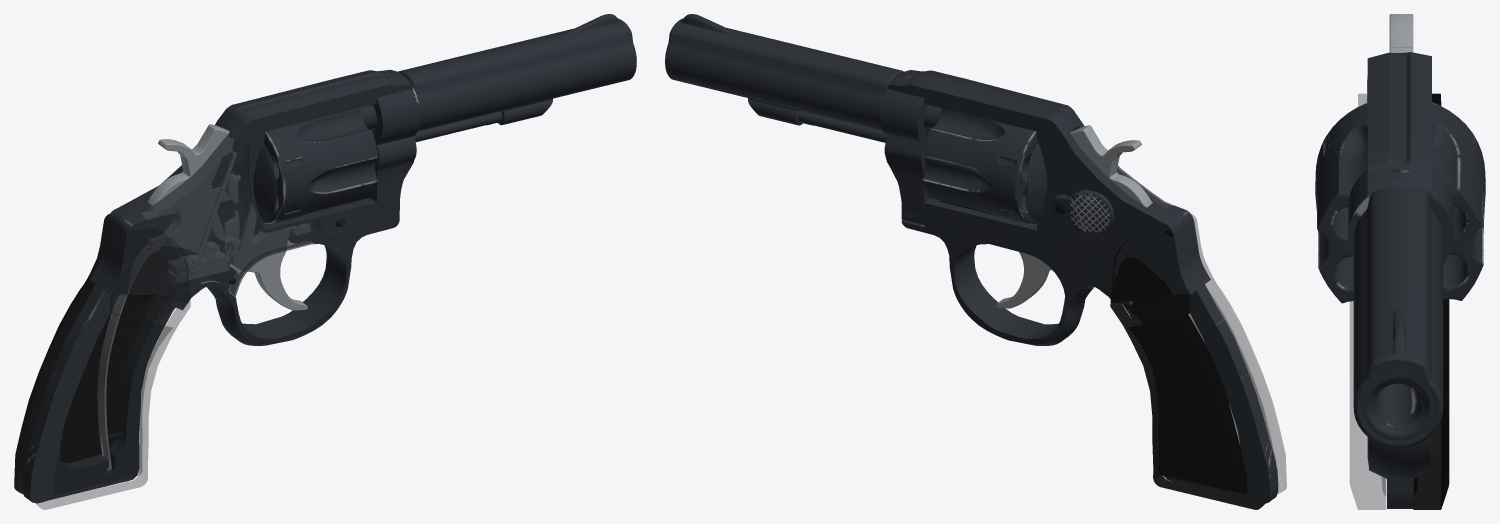
File: SmithAndWesson.gltf
The picture shows the model from 3 angles, left to right: view 1: azimuth 30°, elevation 25°; view 2: azimuth 150°, elevation 25°; view 3: azimuth 270°, elevation 25°; orthographic projection. The views are drawn at different scales.
Visible parts, largest first — view 1: Cube.018, Plane.016, Cube.024, Cylinder.044, Plane.015, Plane.004, Box.007, Circle.026, Plane.014, Cylinder.050, Cube.023, Cylinder.046 (+2 smaller); view 2: Cube.018, Plane.015, Cylinder.044, Plane.004, Plane.016, Cylinder.047, Box.007, Cylinder.048, Circle.026, Cylinder.050, Cylinder.046; view 3: Cylinder.044, Cube.018, Plane.004, Plane.015, Plane.016, Box.007.
Part boxes in pixels (left/top/right/bottom): Cube.018: left=22, top=69, right=419, bottom=503; Plane.016: left=35, top=229, right=190, bottom=509; Cube.024: left=127, top=136, right=345, bottom=296; Cylinder.044: left=360, top=14, right=636, bottom=134; Plane.015: left=14, top=214, right=161, bottom=494; Plane.004: left=263, top=108, right=378, bottom=223; Box.007: left=147, top=124, right=234, bottom=254; Circle.026: left=223, top=226, right=307, bottom=310; Plane.014: left=97, top=243, right=160, bottom=470; Cylinder.050: left=253, top=143, right=276, bottom=221; Cube.023: left=168, top=250, right=229, bottom=282; Cylinder.046: left=414, top=111, right=502, bottom=142; Cube.018: left=880, top=70, right=1278, bottom=503; Plane.015: left=1110, top=230, right=1266, bottom=509; Cylinder.044: left=665, top=14, right=941, bottom=133; Plane.004: left=922, top=108, right=1037, bottom=224; Plane.016: left=1189, top=214, right=1286, bottom=493; Cylinder.047: left=884, top=134, right=930, bottom=224; Box.007: left=1070, top=125, right=1152, bottom=207; Cylinder.048: left=1052, top=189, right=1114, bottom=234; Circle.026: left=996, top=252, right=1051, bottom=308; Cylinder.050: left=1025, top=143, right=1047, bottom=220; Cylinder.046: left=798, top=111, right=886, bottom=142; Cylinder.044: left=1353, top=186, right=1443, bottom=447; Cube.018: left=1348, top=52, right=1453, bottom=508; Plane.004: left=1315, top=102, right=1485, bottom=303; Plane.015: left=1413, top=93, right=1449, bottom=509; Plane.016: left=1350, top=94, right=1386, bottom=509; Box.007: left=1389, top=14, right=1413, bottom=52.
Bounding box in the file's own units: 18.13 × 10.05 × 2.8.
12 materials, 4 textured.
